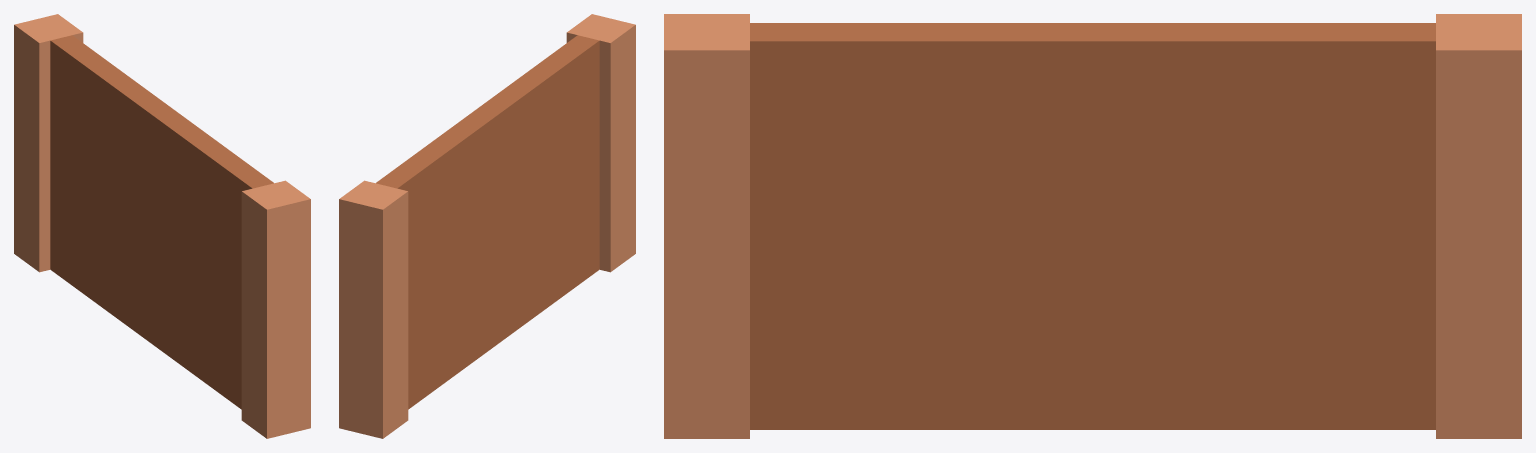
The model's file is wallWoodHalf.glb.
3 views of the same model, side by side, from view 1: azimuth 30°, elevation 25°; view 2: azimuth 150°, elevation 25°; view 3: azimuth 270°, elevation 25° (orthographic). The views are drawn at different scales.
Visible parts, largest first — view 1: wallWoodHalf; view 2: wallWoodHalf; view 3: wallWoodHalf.
Boxes of the visible parts, <box> form: wallWoodHalf: <box>14,14,310,438</box>; wallWoodHalf: <box>339,14,635,438</box>; wallWoodHalf: <box>664,14,1521,438</box>.
Bounding box in the file's own units: 0.3 × 1.5 × 3.
